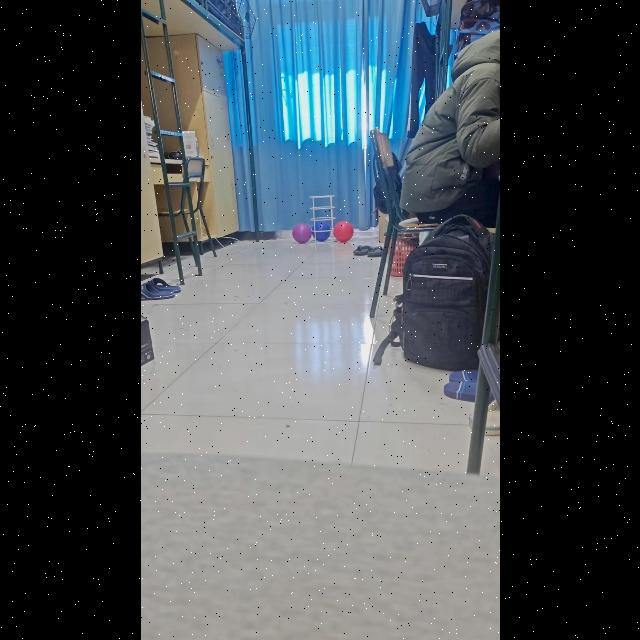B: (315, 218, 331, 244)
P: (291, 221, 313, 243)
R: (332, 220, 354, 242)
S: (309, 194, 335, 242)
